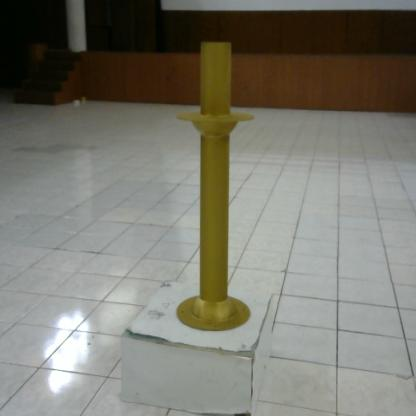pole: (170, 34, 261, 343)
